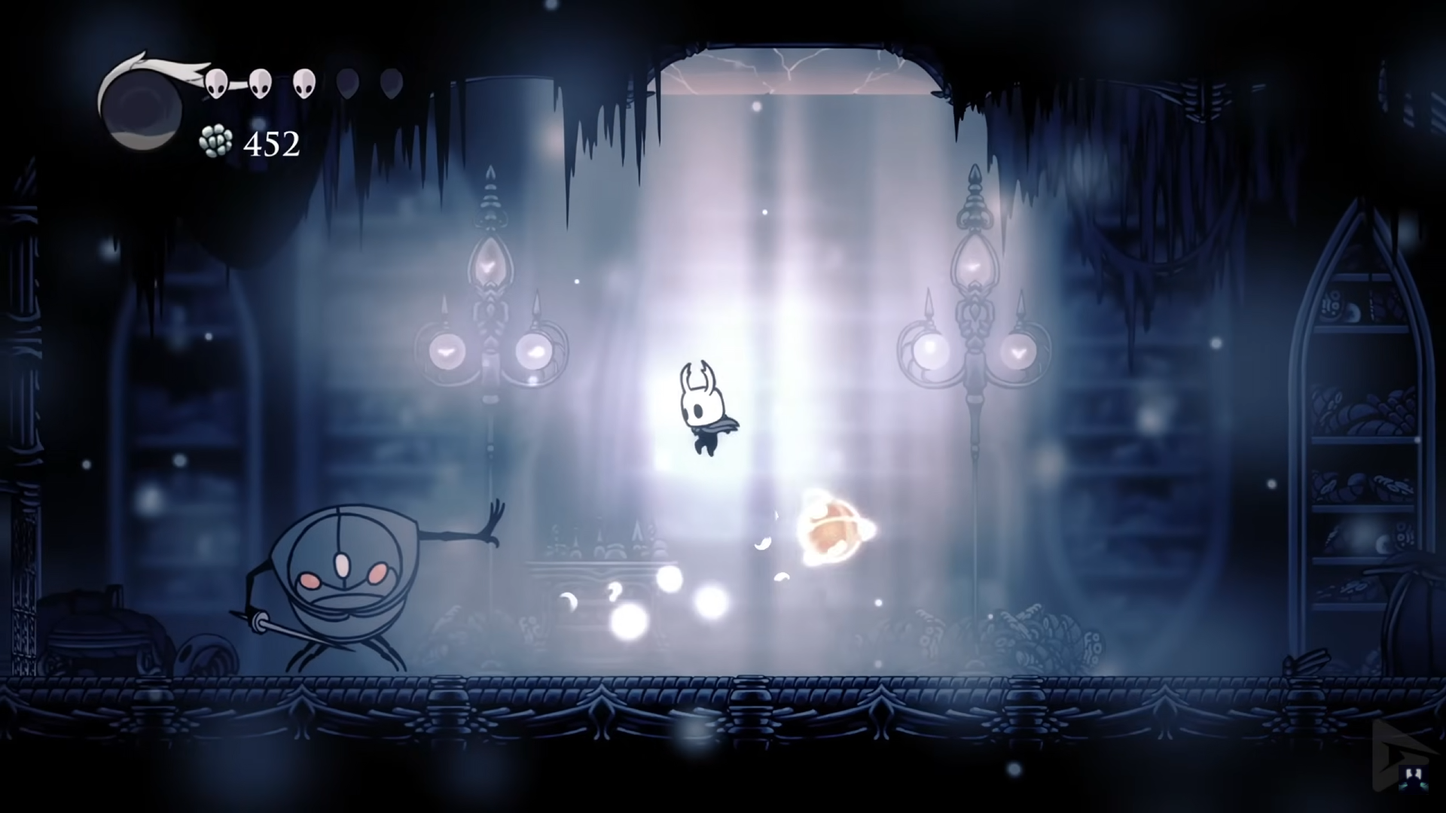HK: (669, 356, 740, 461)
